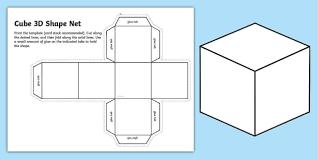cube: (200, 23, 310, 134)
